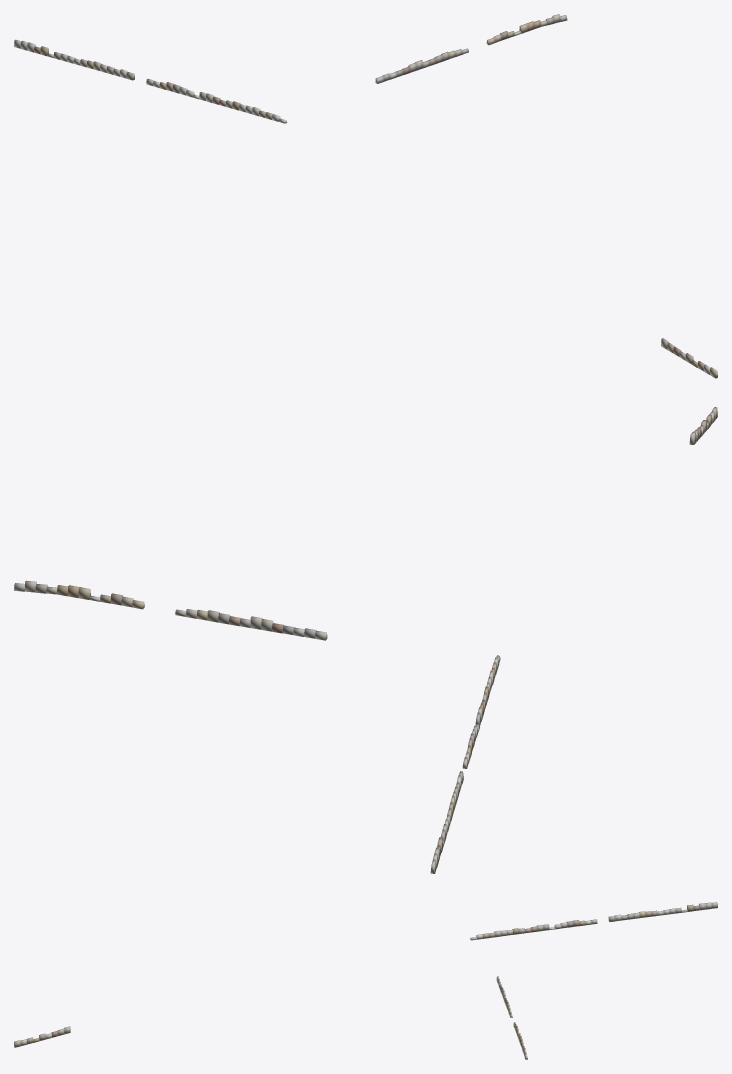
Rendered from farm_14_4_collision.glb.
3 views of the same model, one above another, from view 1: azimuth 30°, elevation 25°; view 2: azimuth 150°, elevation 25°; view 3: azimuth 270°, elevation 25° (orthographic). The views are drawn at different scales.
Visible parts, largest first — view 1: geometry_0; view 2: geometry_0; view 3: geometry_0.
Part boxes in pixels (x1=…): geometry_0: x1=14, y1=14, x2=717, y2=378; geometry_0: x1=14, y1=407, x2=717, y2=873; geometry_0: x1=14, y1=902, x2=717, y2=1059.
Size of the model in its own units: 93.51 by 16.97 by 171.
